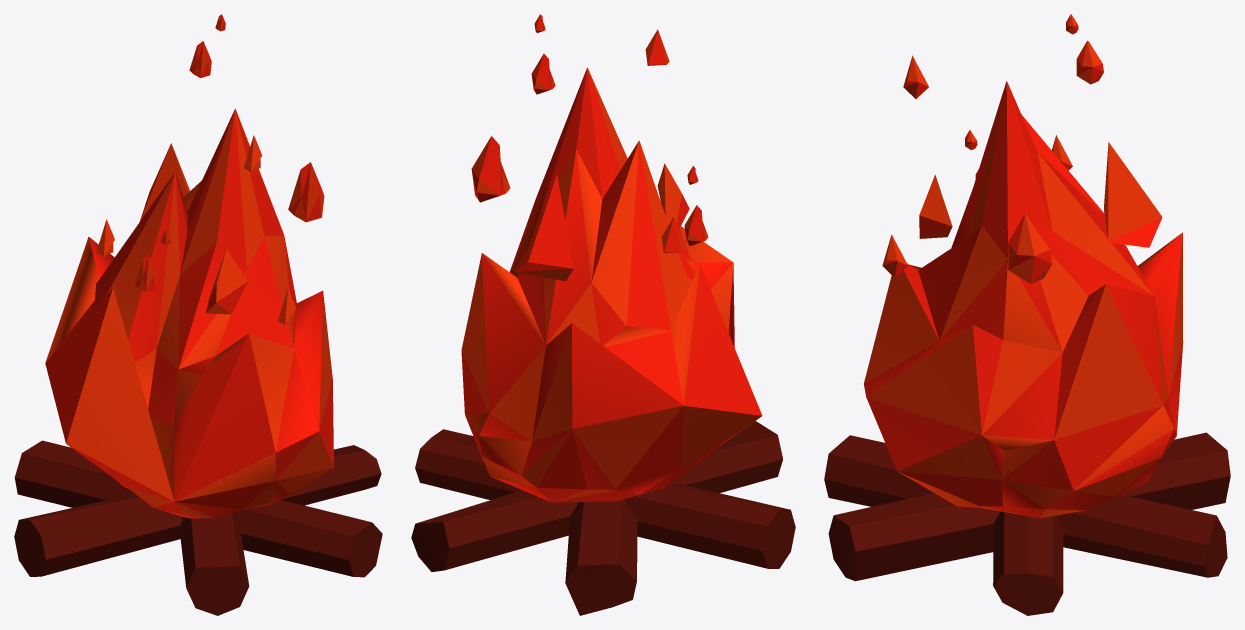
File: hoguera.FBX
3 views of the same model, side by side, from view 1: azimuth 30°, elevation 25°; view 2: azimuth 150°, elevation 25°; view 3: azimuth 270°, elevation 25° (orthographic). The views are drawn at different scales.
Visible parts, largest first — view 1: group5_pPyramid7, group5_pCylinder2, pCylinder1_group5, group5_pCylinder3, group5_pPyramid12, group5_pPyramid8, group5_pPyramid11, group5_pPyramid9, group5_pPyramid15; view 2: group5_pPyramid7, pCylinder1_group5, group5_pCylinder3, group5_pCylinder2, group5_pPyramid11, group5_pPyramid8, group5_pPyramid12, group5_pPyramid9, group5_pPyramid15, group5_pPyramid13, group5_pPyramid10; view 3: group5_pPyramid7, group5_pCylinder2, group5_pCylinder3, pCylinder1_group5, group5_pPyramid11, group5_pPyramid8, group5_pPyramid12, group5_pPyramid9, group5_pPyramid13, group5_pPyramid17.
Boxes of the visible parts, <box> form: group5_pPyramid7: <box>45,108,333,518</box>; group5_pCylinder2: <box>14,440,382,577</box>; pCylinder1_group5: <box>14,445,381,576</box>; group5_pCylinder3: <box>179,513,249,615</box>; group5_pPyramid12: <box>205,249,247,314</box>; group5_pPyramid8: <box>288,162,324,222</box>; group5_pPyramid11: <box>139,143,189,221</box>; group5_pPyramid9: <box>189,41,211,77</box>; group5_pPyramid15: <box>135,255,156,291</box>; group5_pPyramid7: <box>461,67,762,502</box>; pCylinder1_group5: <box>415,429,795,568</box>; group5_pCylinder3: <box>411,421,782,571</box>; group5_pCylinder2: <box>565,499,637,615</box>; group5_pPyramid11: <box>514,174,573,281</box>; group5_pPyramid8: <box>471,136,510,202</box>; group5_pPyramid12: <box>657,163,689,229</box>; group5_pPyramid9: <box>531,53,555,94</box>; group5_pPyramid15: <box>684,205,708,245</box>; group5_pPyramid13: <box>645,29,669,65</box>; group5_pPyramid10: <box>661,217,685,253</box>; group5_pPyramid7: <box>864,81,1183,518</box>; group5_pCylinder2: <box>828,432,1230,581</box>; group5_pCylinder3: <box>824,435,1227,577</box>; pCylinder1_group5: <box>993,511,1063,615</box>; group5_pPyramid11: <box>1104,142,1162,247</box>; group5_pPyramid8: <box>1008,213,1052,283</box>; group5_pPyramid12: <box>919,174,952,238</box>; group5_pPyramid9: <box>1076,40,1103,84</box>; group5_pPyramid13: <box>903,55,928,98</box>; group5_pPyramid17: <box>882,234,907,277</box>.
Bounding box in the file's own units: 1.76 × 2.52 × 1.7.
